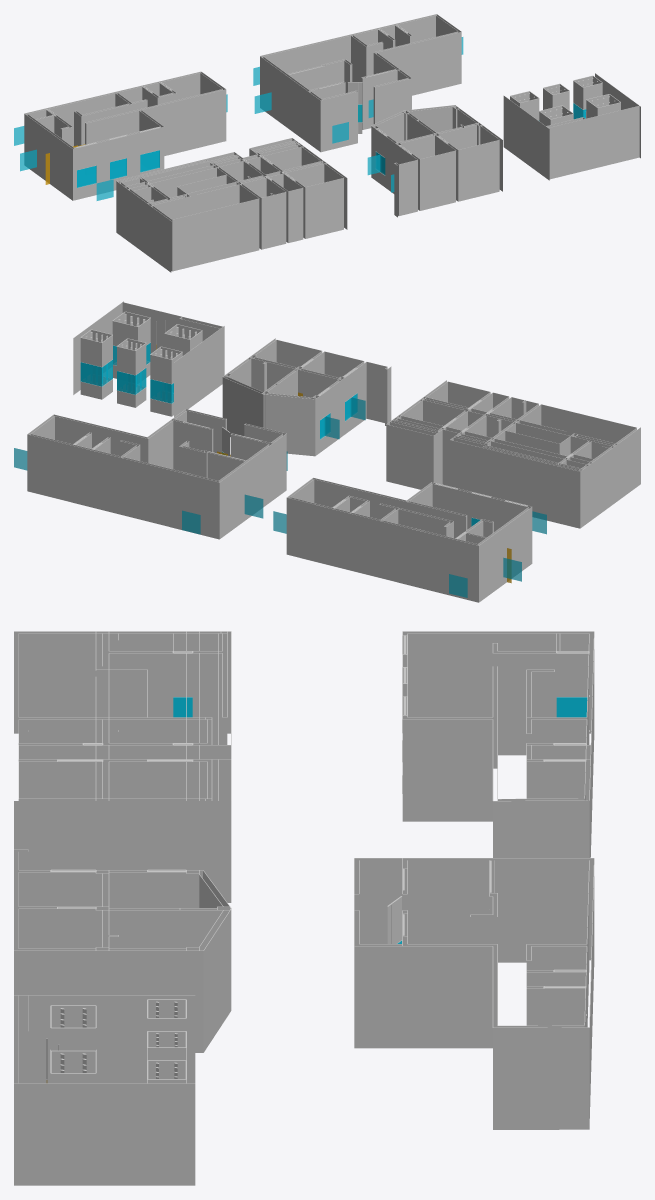
File: b81c28c0-6112-4ca5-a8a4-79c36dfff976.glb
3 views of the same model, one above another, from view 1: azimuth 30°, elevation 25°; view 2: azimuth 150°, elevation 25°; view 3: azimuth 270°, elevation 25° (orthographic). The views are drawn at different scales.
Visible parts, largest first — view 1: walls, windows, roof; view 2: walls, windows, roof; view 3: walls, roof, windows.
Part boxes in pixels (x1=…): walls: x1=24, y1=14, x2=640, y2=272; windows: x1=14, y1=37, x2=586, y2=200; roof: x1=24, y1=14, x2=640, y2=221; walls: x1=27, y1=301, x2=640, y2=602; windows: x1=14, y1=343, x2=546, y2=597; roof: x1=27, y1=301, x2=640, y2=545; walls: x1=14, y1=631, x2=594, y2=1185; roof: x1=14, y1=631, x2=594, y2=1083; windows: x1=173, y1=697, x2=587, y2=943.
Bounding box in the file's own units: 34.75 × 3.5 × 19.46.
